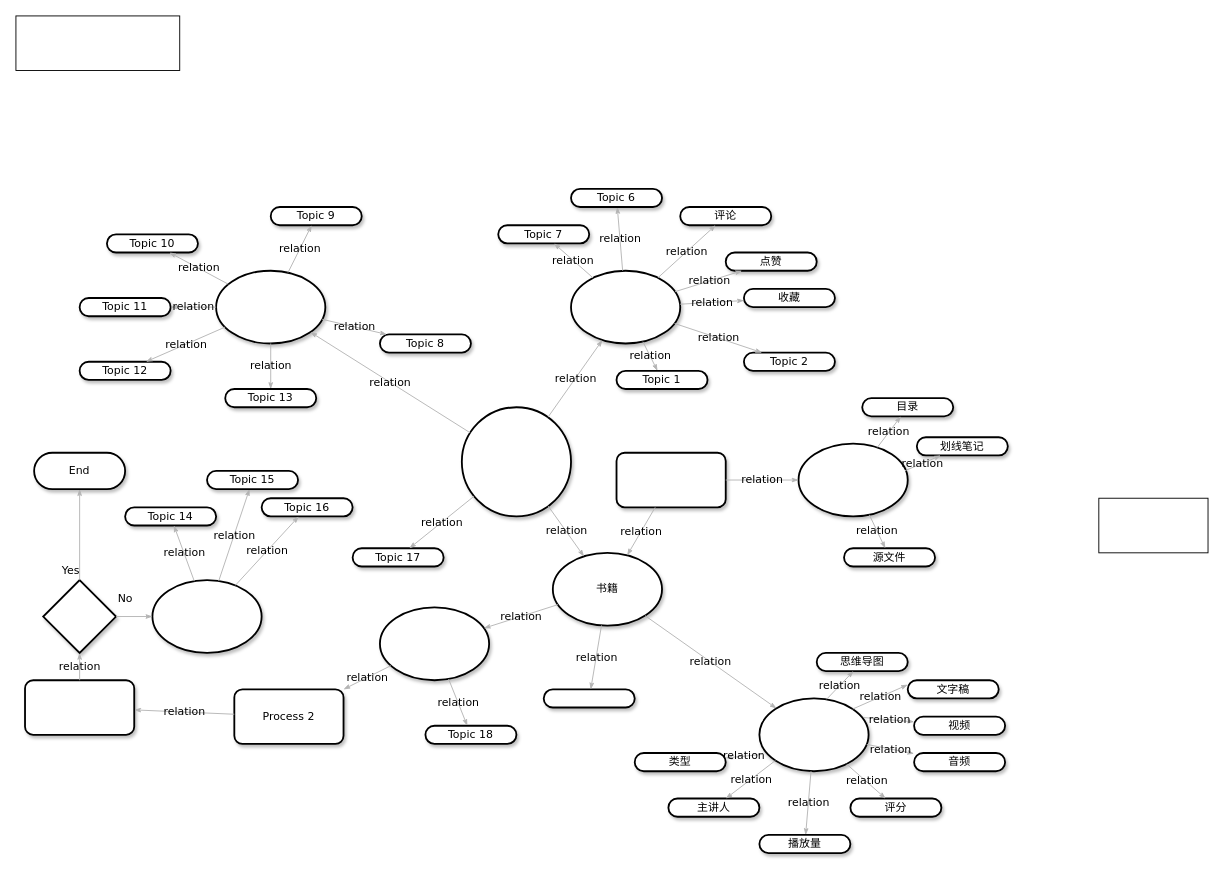
The diagram is 1224 pixels wide and 876 high, and some of its shapes have lost their labels. The shapes that lost their labels are listed below. From the top down, each one's centre as x and y in pixels, then its label:
At (97,43): "内容".
At (271,308): "Sub-node 1".
At (626,308): "用户数据".
At (517,462): "Root node".
At (672,481): "数字化".
At (854,481): "电子书".
At (1153,525): "评论数 点赞数 收藏数".
At (80,617): "Condition".
At (207,617): "Sub-node 7".
At (435,644): "Sub-node 6".
At (80,708): "Process 3".
At (590,699): "作者".
At (814,735): "解读".
